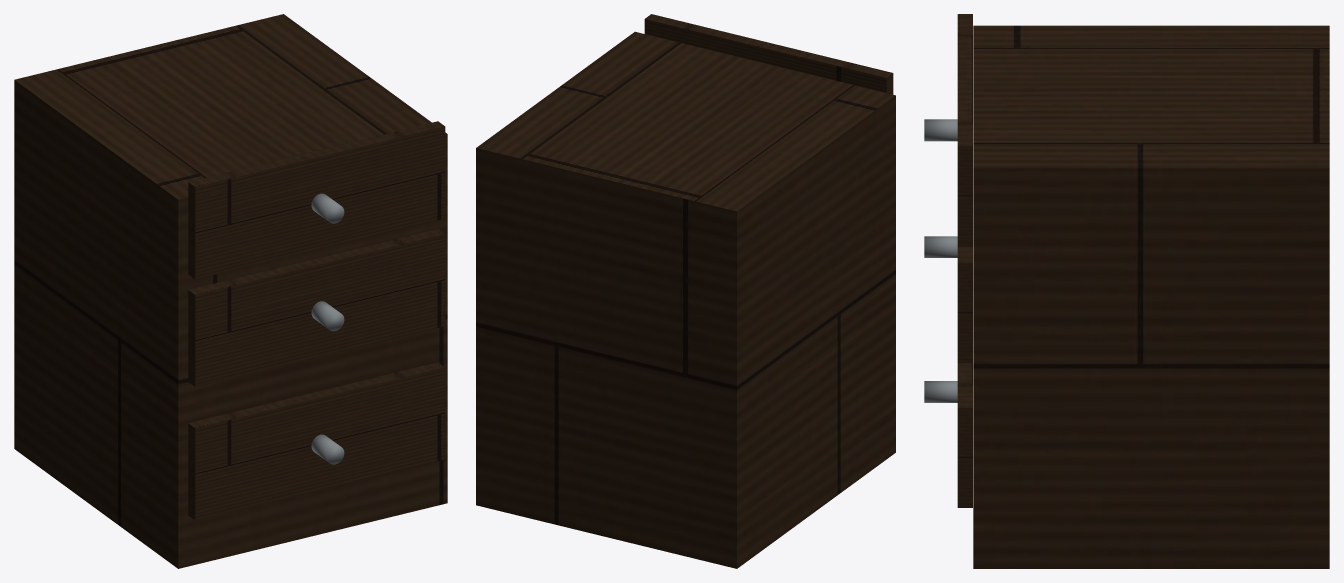
File: bedside-table.glb
3 renders of one model, left to right at view 1: azimuth 30°, elevation 25°; view 2: azimuth 150°, elevation 25°; view 3: azimuth 270°, elevation 25°, orthographic. The views are drawn at different scales.
Parts seen in each view (by area): view 1: Bedside cabinet, Drawer front, Drawer front.002, Drawer front.001, Pull.002, Pull, Pull.001; view 2: Bedside cabinet, Drawer front.002; view 3: Bedside cabinet, Drawer front.002, Drawer front, Drawer front.001, Pull.002, Pull, Pull.001.
Part boxes in pixels (left/top/right/bottom): Bedside cabinet: left=14, top=14, right=447, bottom=568; Drawer front: left=188, top=362, right=445, bottom=520; Drawer front.002: left=188, top=121, right=445, bottom=279; Drawer front.001: left=188, top=229, right=445, bottom=387; Pull.002: left=311, top=193, right=344, bottom=223; Pull: left=311, top=434, right=344, bottom=464; Pull.001: left=311, top=301, right=344, bottom=331; Bedside cabinet: left=476, top=31, right=895, bottom=568; Drawer front.002: left=644, top=14, right=893, bottom=94; Bedside cabinet: left=973, top=25, right=1329, bottom=568; Drawer front.002: left=957, top=14, right=972, bottom=246; Drawer front: left=957, top=363, right=972, bottom=507; Drawer front.001: left=957, top=246, right=972, bottom=363; Pull.002: left=924, top=119, right=957, bottom=141; Pull: left=924, top=381, right=957, bottom=402; Pull.001: left=924, top=236, right=957, bottom=257.
Bounding box in the file's own units: 0.55 × 0.75 × 0.66.
2 materials, 1 textured.
